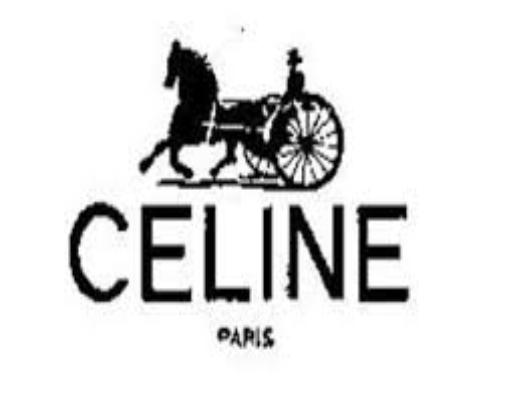CELINE: (66, 183, 432, 320)
